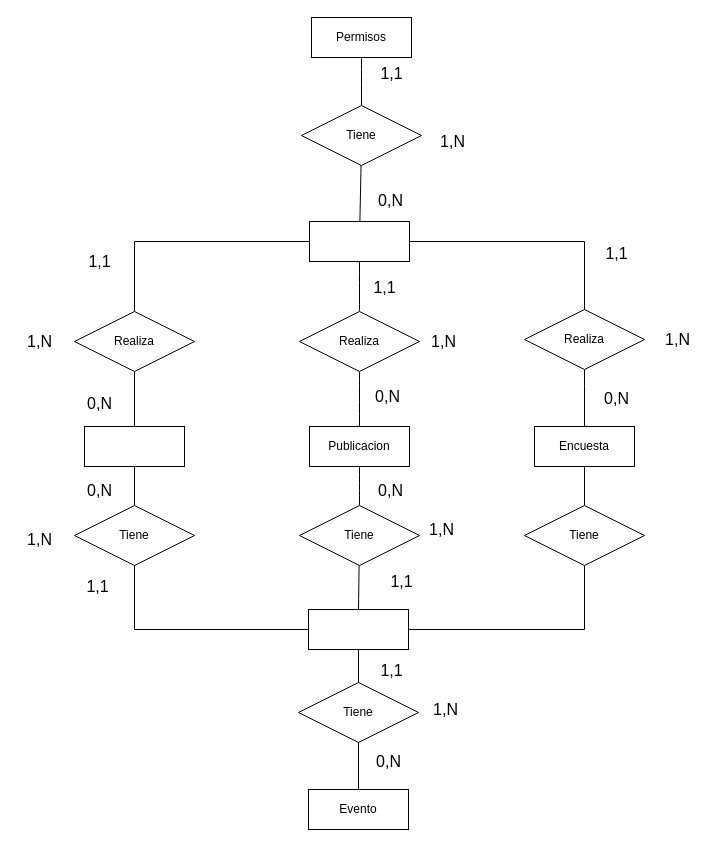
The diagram is 715 pixels wide and 847 high, and some of its shapes have lost their labels. The shapes that lost their labels are listed below. From the top down, each one's centre as x and y in pixels, then its label:
(359,241): Usuario
(134,446): Denuncia
(358,629): Categoria
